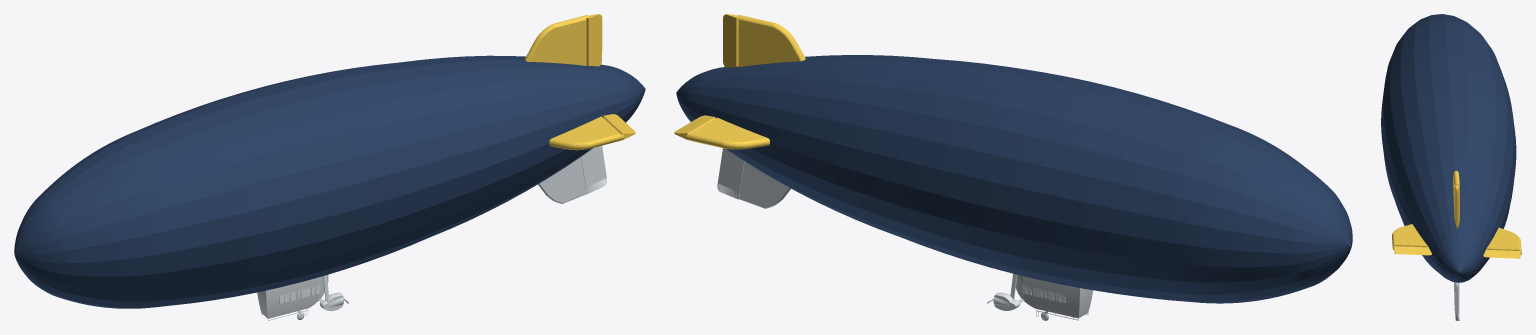
File: seat-blimp.glb
3 views of the same model, side by side, from view 1: azimuth 30°, elevation 25°; view 2: azimuth 150°, elevation 25°; view 3: azimuth 270°, elevation 25° (orthographic). The views are drawn at different scales.
Visible parts, largest first — view 1: Sin+título; view 2: Sin+título; view 3: Sin+título.
Boxes of the visible parts, bbox=[...] form: Sin+título: bbox=[14, 14, 645, 320]; Sin+título: bbox=[674, 14, 1352, 320]; Sin+título: bbox=[1381, 14, 1521, 320].
Bounding box in the file's own units: 55.67 × 19.29 × 14.06.
